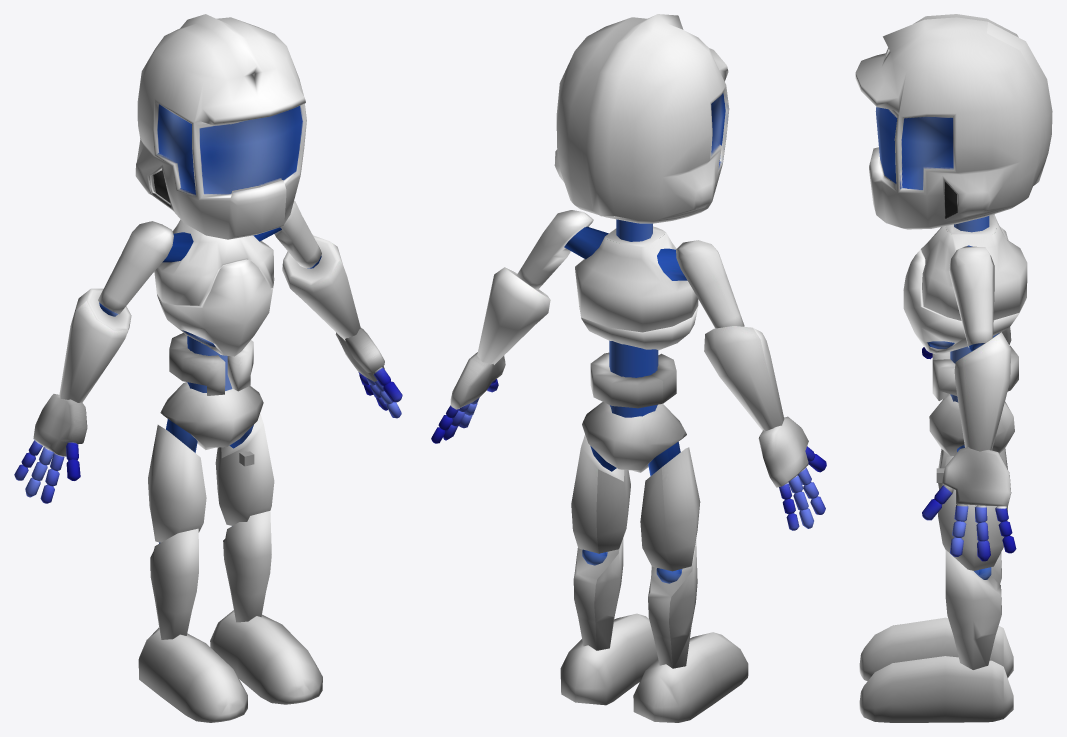
The model's file is tgcito-classic.obj.
3 renders of one model, left to right at view 1: azimuth 30°, elevation 25°; view 2: azimuth 150°, elevation 25°; view 3: azimuth 270°, elevation 25°, orthographic. The views are drawn at different scales.
Parts seen in each view (by area): view 1: Object03; view 2: Object03; view 3: Object03.
Part boxes in pixels (left/top/right/bottom): Object03: left=14, top=14, right=402, bottom=722; Object03: left=431, top=14, right=826, bottom=722; Object03: left=855, top=14, right=1052, bottom=722.
Bounding box in the file's own units: 77.26 × 133 × 35.32.
Materials: 2 (1 with a texture image).
